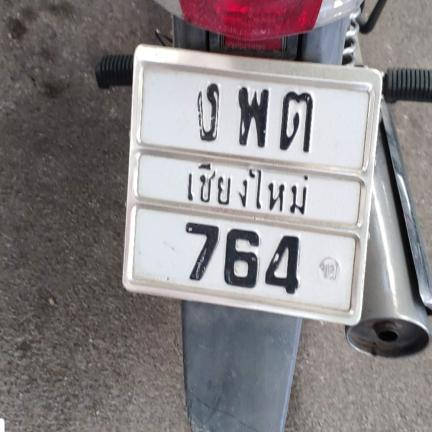4: (263, 225, 304, 300)
6: (223, 222, 260, 293)
7: (183, 218, 219, 283)
A07: (189, 80, 221, 141)
A21: (278, 88, 314, 153)
A30: (227, 82, 271, 149)
CMI: (183, 158, 316, 220)
